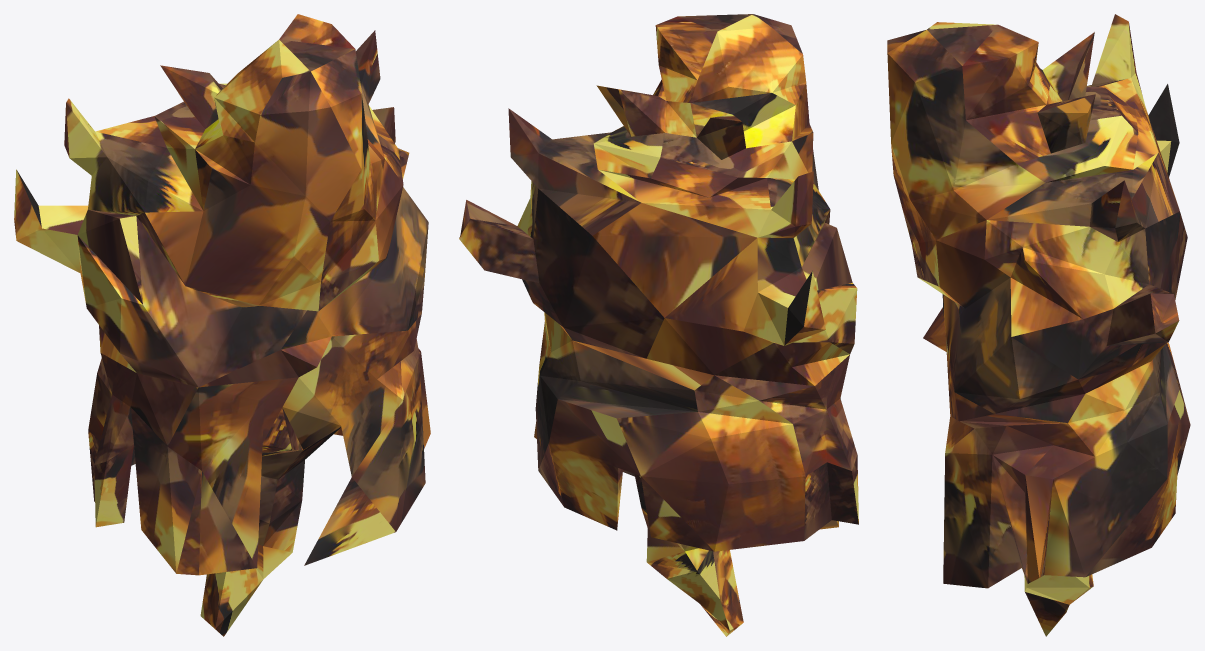
3 renders of one model, left to right at view 1: azimuth 30°, elevation 25°; view 2: azimuth 150°, elevation 25°; view 3: azimuth 270°, elevation 25°, orthographic. The views are drawn at different scales.
Visible parts, largest first — view 1: ai_model; view 2: ai_model; view 3: ai_model.
Boxes of the visible parts, x1=… form: ai_model: x1=14, y1=14, x2=430, y2=636; ai_model: x1=459, y1=14, x2=858, y2=636; ai_model: x1=887, y1=14, x2=1190, y2=636.
Size of the model in its own units: 0.6375 by 0.9745 by 0.4246.
